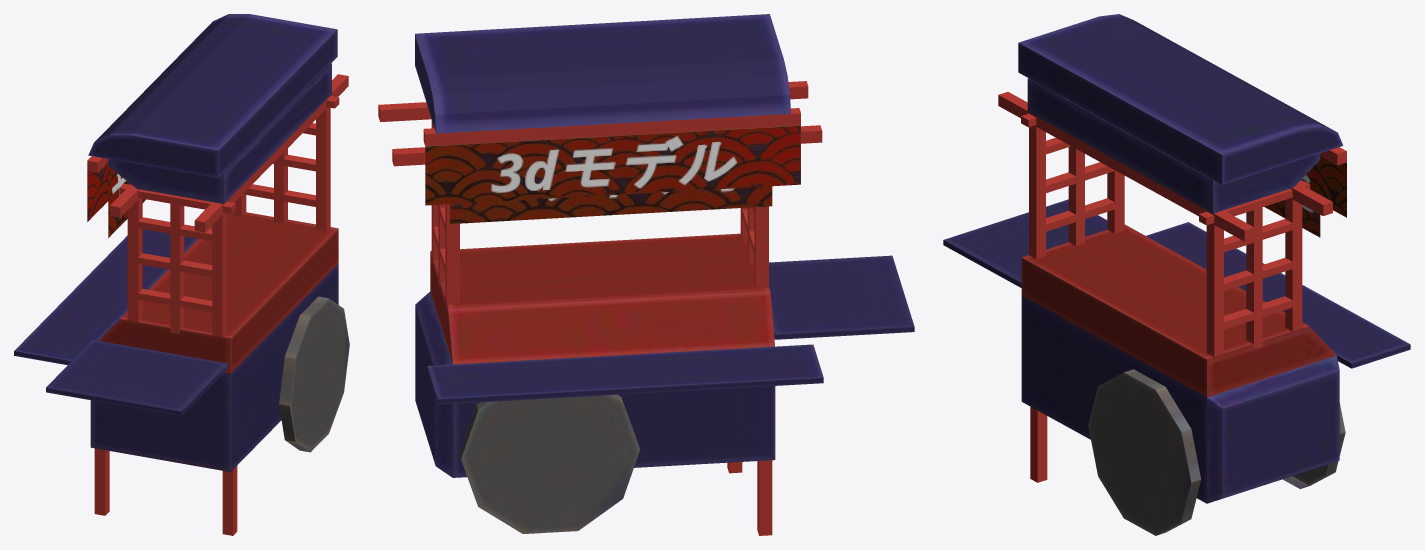
The model's file is budka.glb.
The picture shows the model from 3 angles, left to right: view 1: azimuth 30°, elevation 25°; view 2: azimuth 150°, elevation 25°; view 3: azimuth 270°, elevation 25°; orthographic projection. The views are drawn at different scales.
Parts seen in each view (by area): view 1: budka3D; view 2: budka3D; view 3: budka3D.
Boxes of the visible parts, x1,y1,x2,y2 form: budka3D: (14, 14, 349, 535); budka3D: (378, 14, 914, 535); budka3D: (943, 14, 1410, 535).
Size of the model in its own units: 2.73 by 2.68 by 2.66.
1 material, 1 textured.
